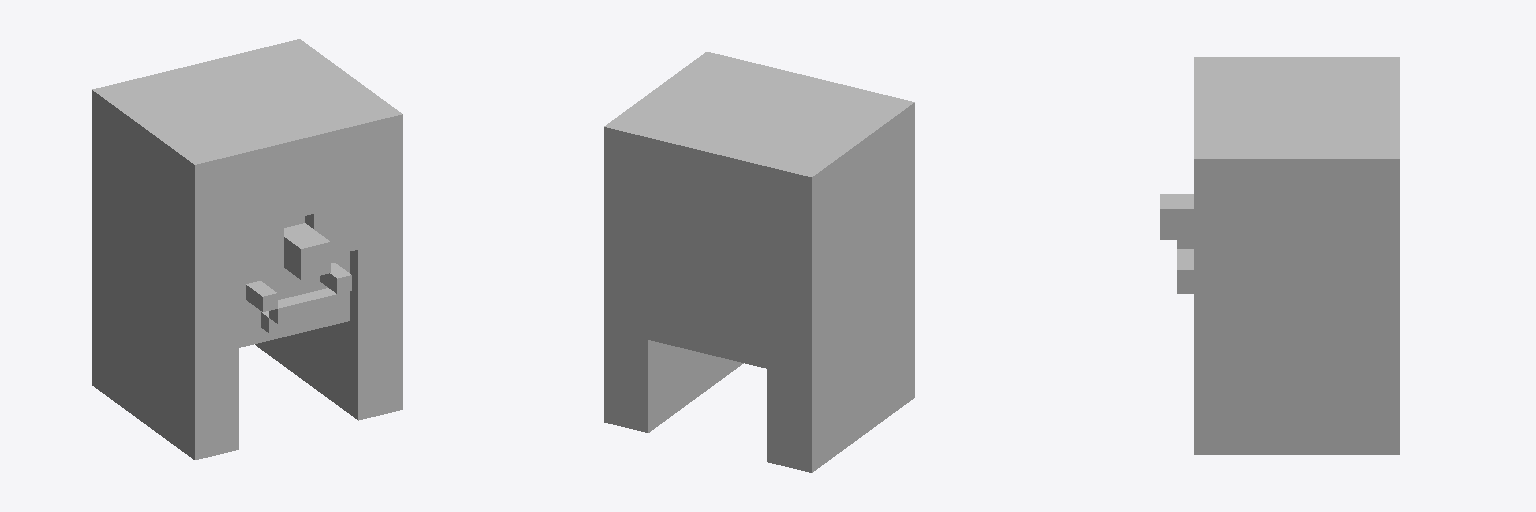
The model's file is character3.obj.
3 views of the same model, side by side, from view 1: azimuth 30°, elevation 25°; view 2: azimuth 150°, elevation 25°; view 3: azimuth 270°, elevation 25° (orthographic).
Parts seen in each view (by area): view 1: object 1; view 2: object 1; view 3: object 1.
Boxes of the visible parts, x1,y1,x2,y2 form: object 1: [92, 39, 402, 459]; object 1: [604, 52, 914, 472]; object 1: [1160, 57, 1399, 454].
Size of the model in its own units: 1.4 by 1.9 by 1.4.